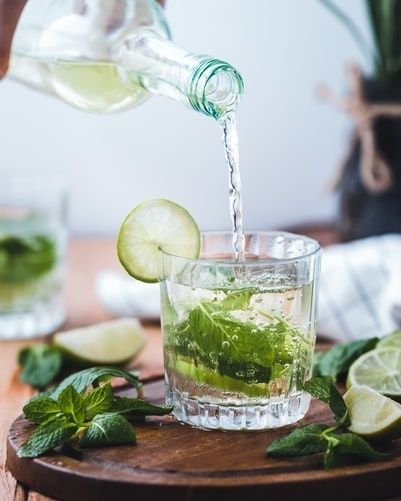whiskey: (160, 237, 315, 423)
